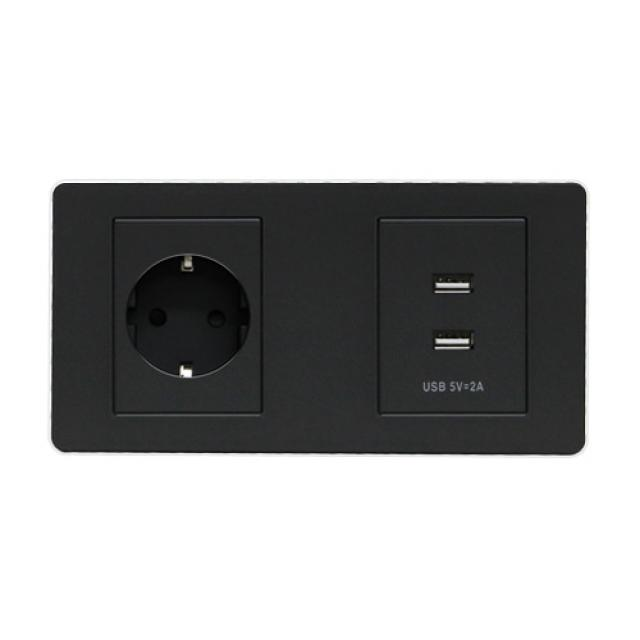typeb: (71, 154, 296, 509)
